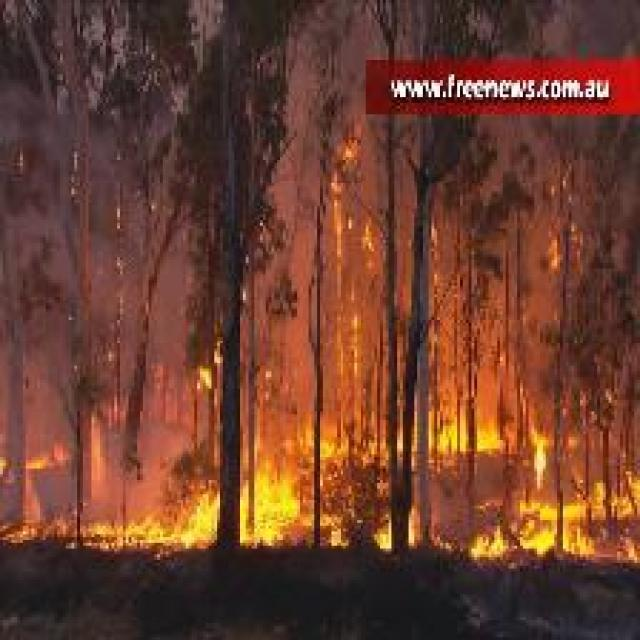Fire: (474, 472, 640, 568), (0, 482, 220, 548), (334, 114, 377, 314), (436, 404, 578, 450), (244, 463, 304, 546), (374, 514, 392, 549), (323, 436, 343, 456)
